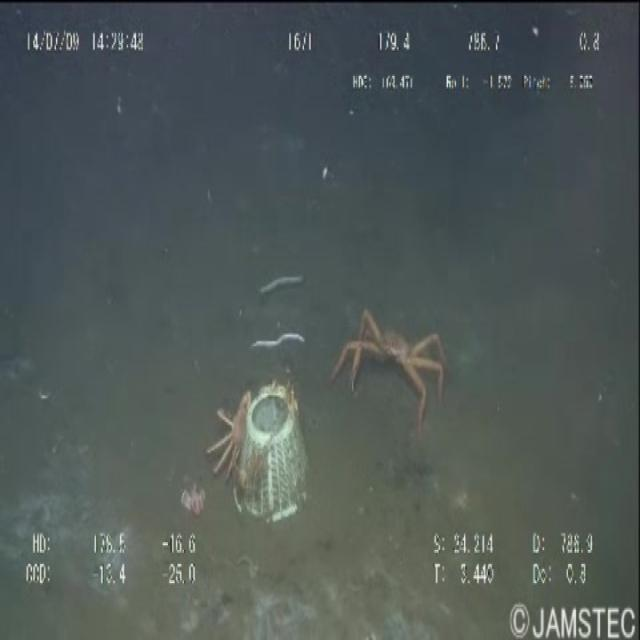Cutlery: (221, 379, 325, 536)
Litter: (176, 469, 206, 528)
